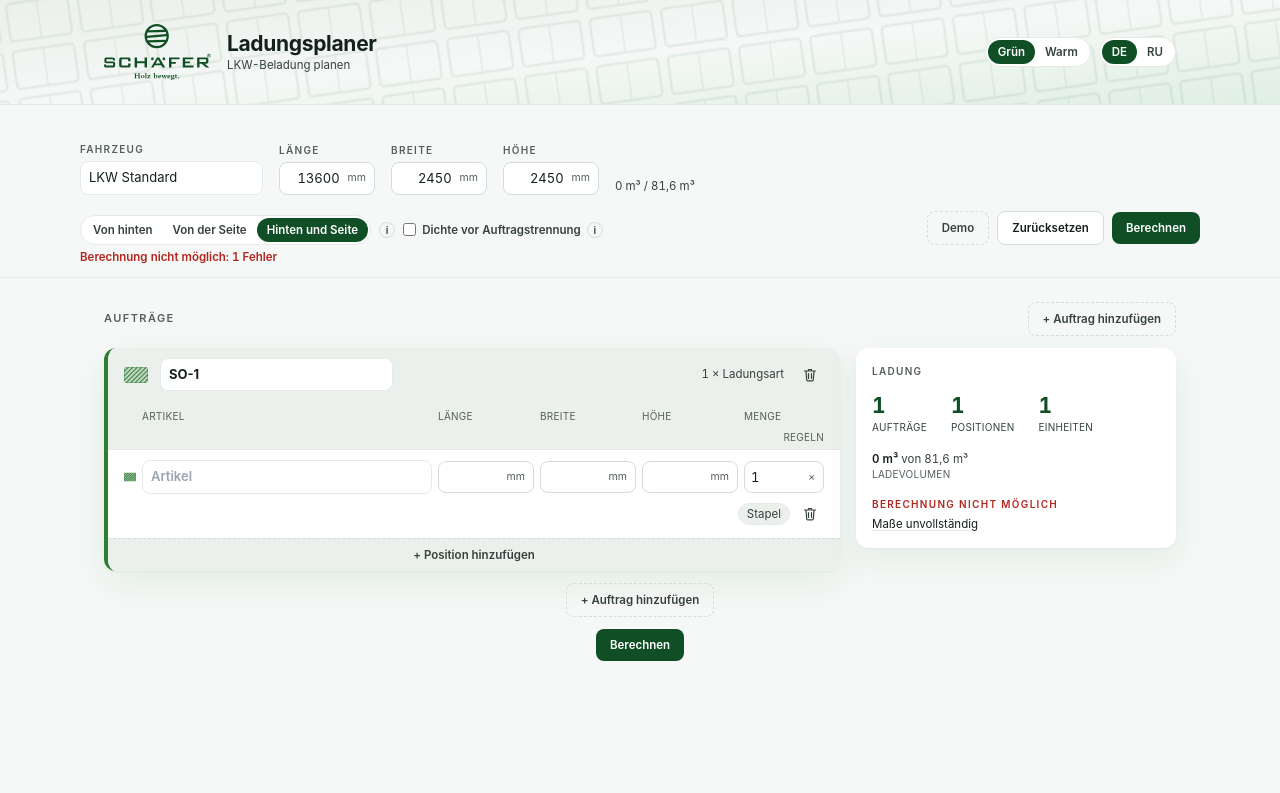
it: SetupScreen › reordering the order queue (4bj.11) › disables up on the first order and down on the last
Click the 1st button "+ Auftrag hinzufügen" at [1102, 319], box x1=1028 y1=302 x2=1176 y2=336
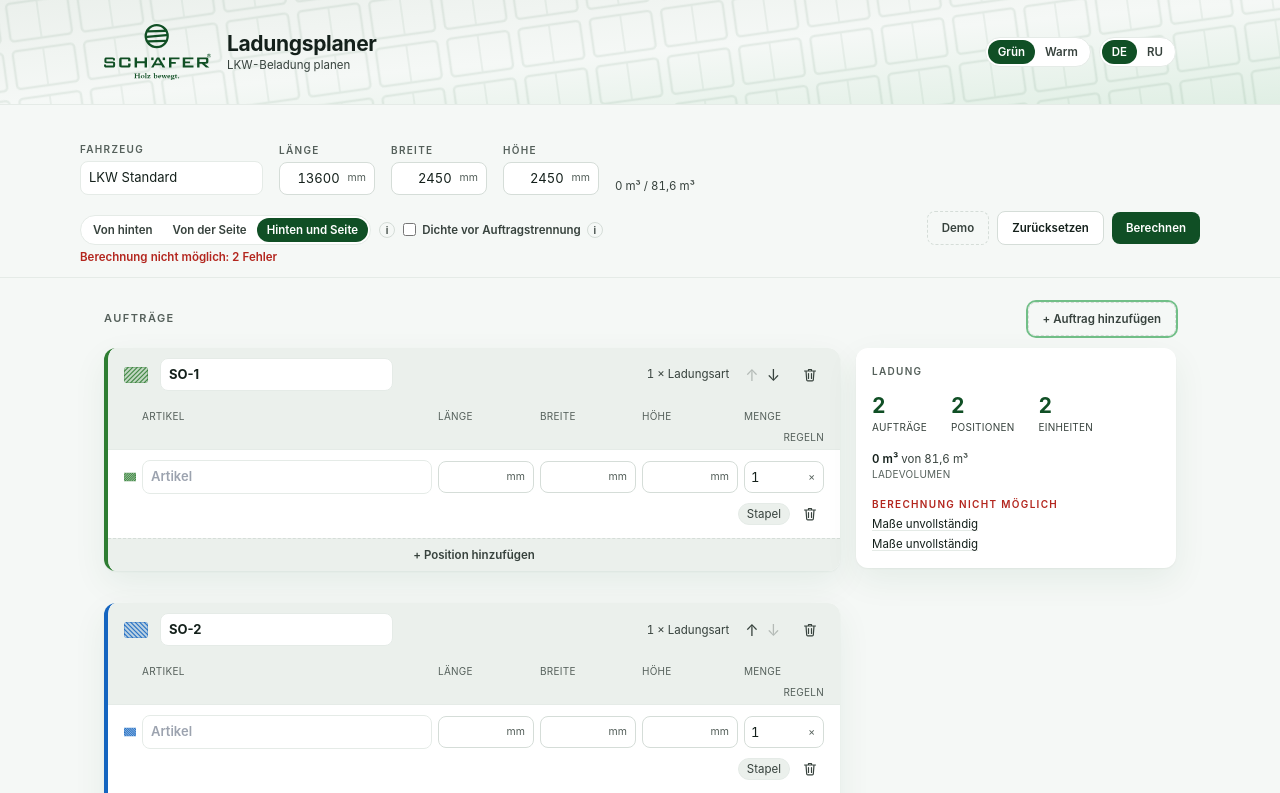
Now the button named "Auftrag nach oben" is disabled, box x1=741 y1=362 x2=763 y2=386
Now the button named "Auftrag nach oben" is enabled, box x1=741 y1=618 x2=763 y2=642
Now the button named "Auftrag nach unten" is enabled, box x1=763 y1=362 x2=784 y2=386
